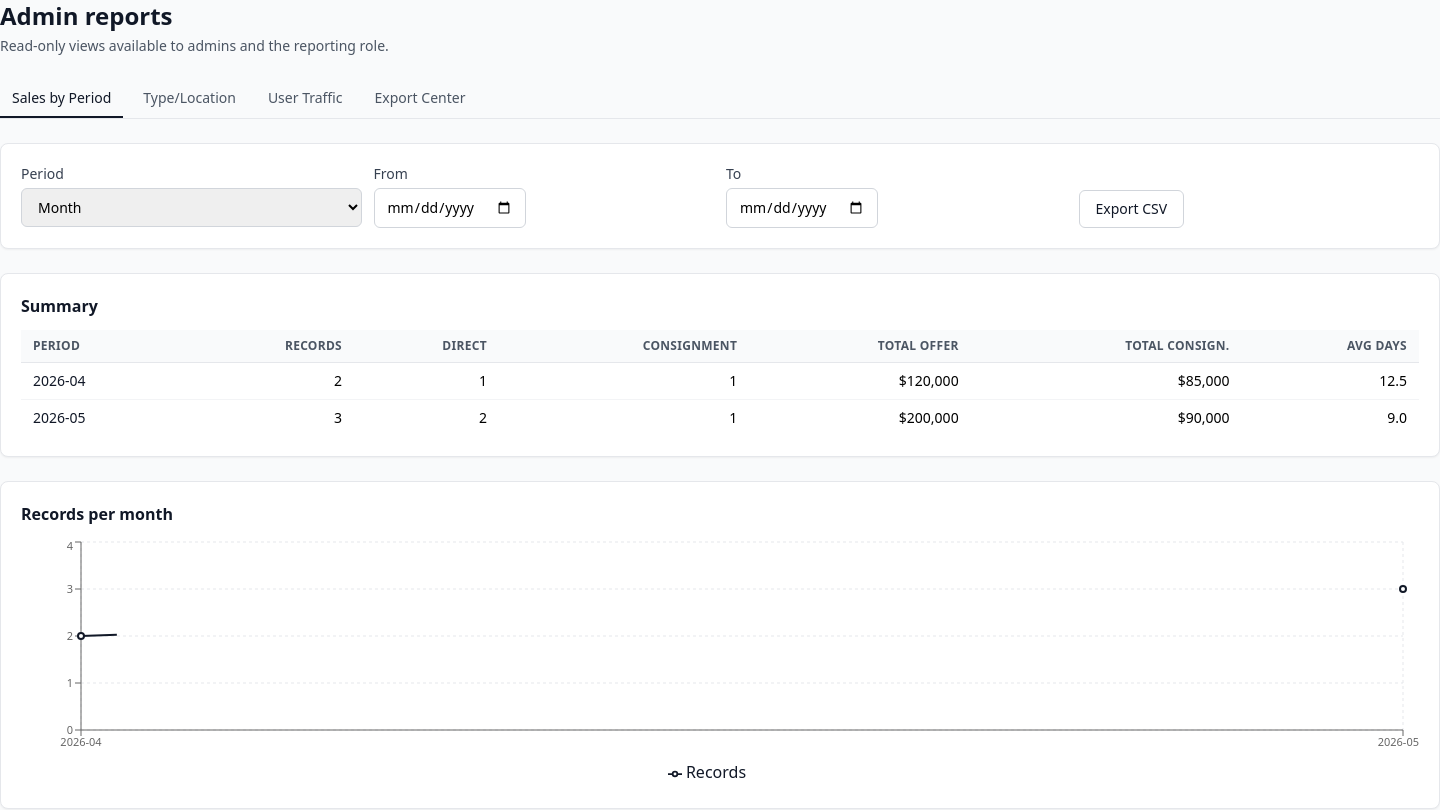
AdminReportsPage › Export Center tab shows a download button for each report type
The width and height of the screenshot is (1440, 810).
Click the tab "Export Center" at x=420, y=99, box [362,80,477,118]
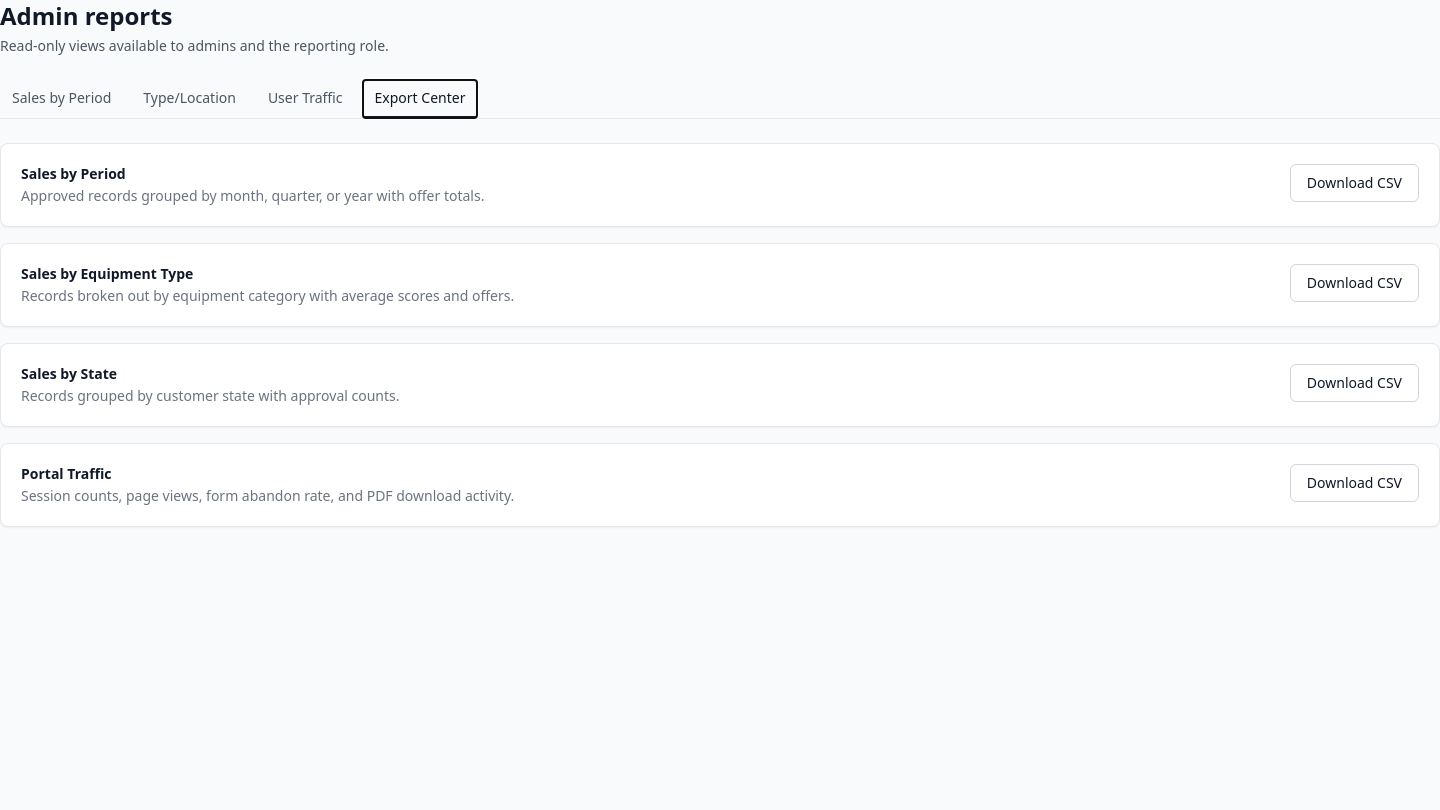
Check: the button with aria-label "download sales by period csv" is shown, box [1290,164,1419,202]
Check: the button with aria-label "download sales by equipment type csv" is shown, box [1290,264,1419,302]
Check: the button with aria-label "download sales by state csv" is shown, box [1290,364,1419,402]
